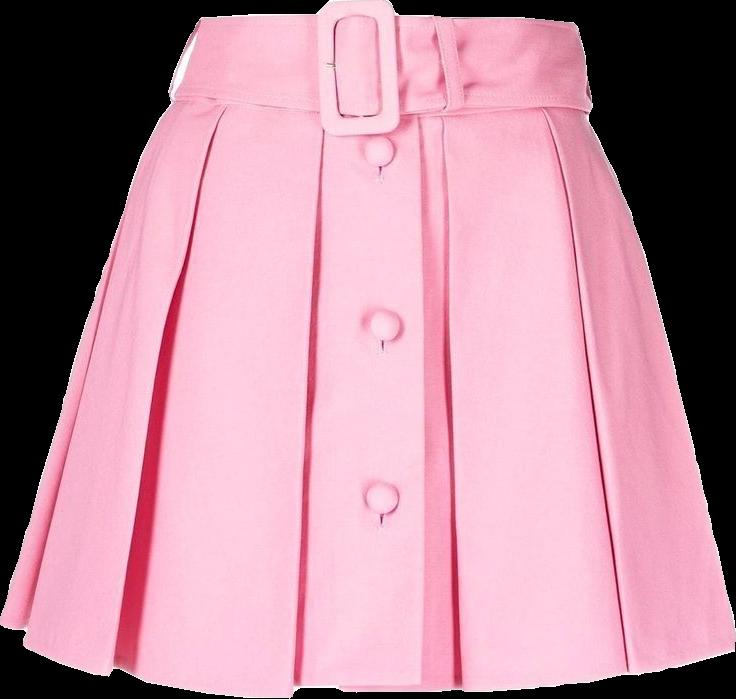Hemline: (0, 618, 735, 698)
Waistline: (163, 93, 593, 117), (198, 8, 576, 26)
